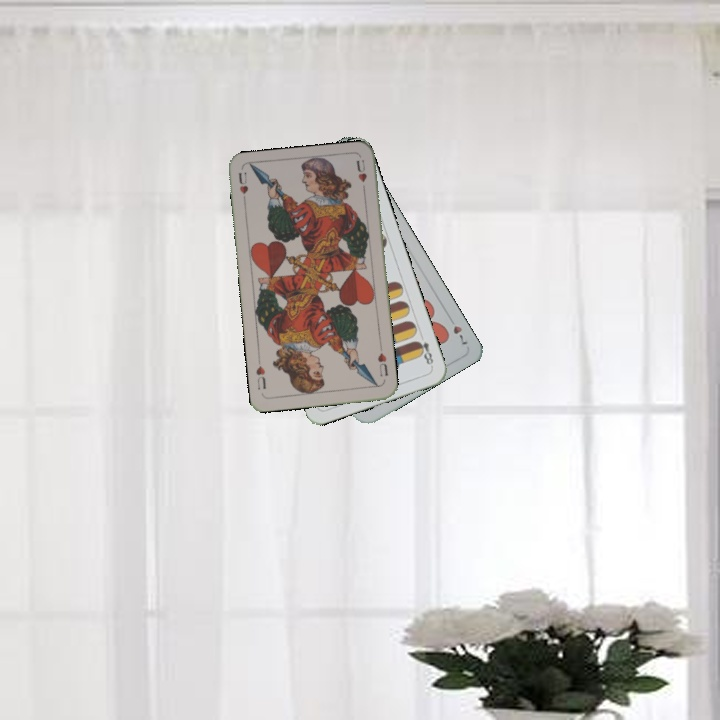E8: (412, 330, 436, 370)
H7: (444, 312, 470, 347)
HU: (235, 168, 251, 208), (374, 349, 391, 379)
